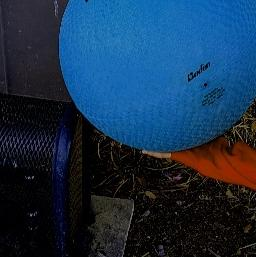algae: (52, 0, 256, 149)
